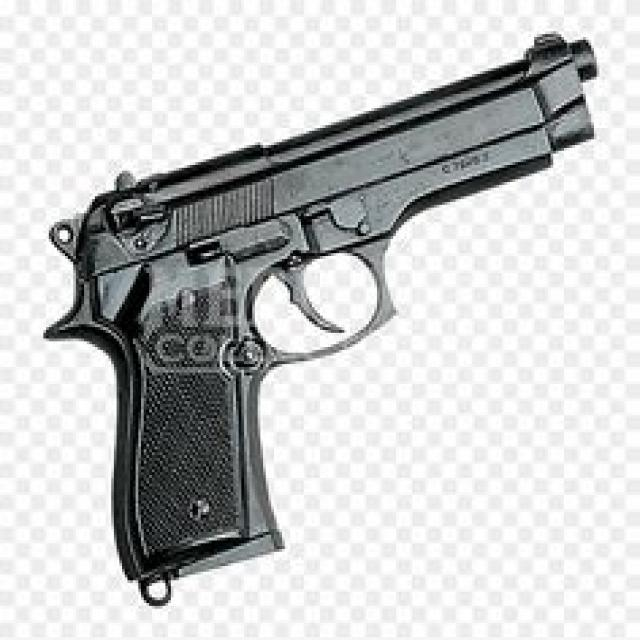semi automatic: (36, 19, 614, 608)
